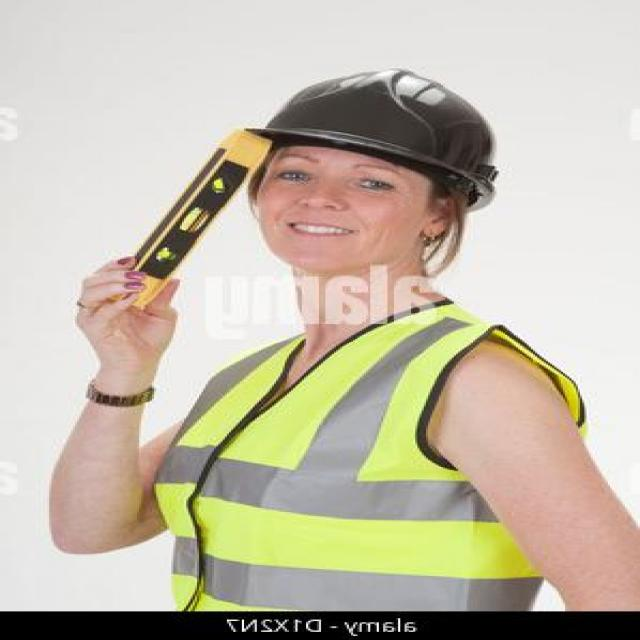Reflective-Jacket: (146, 300, 580, 606)
Safety-Helmet: (203, 60, 516, 195)
